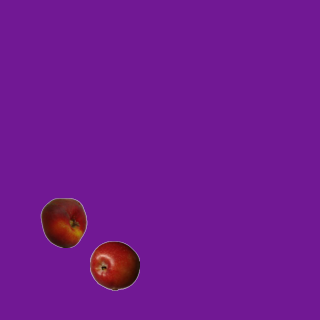Apple Braeburn: (89, 240, 139, 290)
Nectarine Flat: (38, 197, 88, 247)
